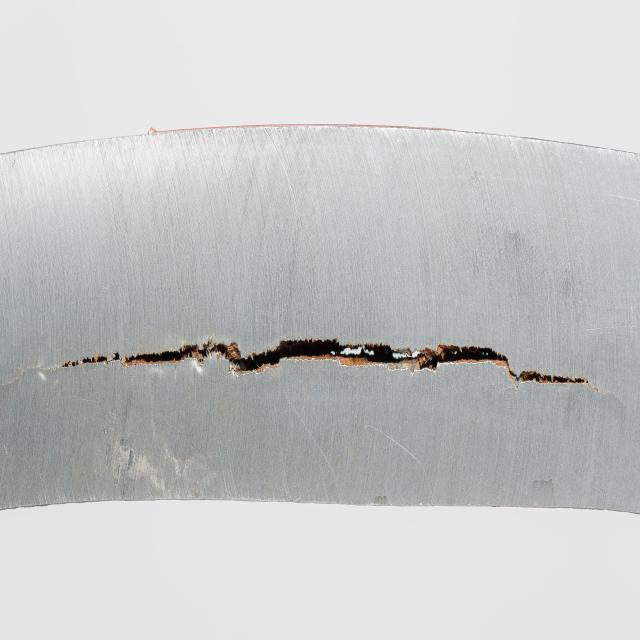defect: (59, 329, 597, 394)
